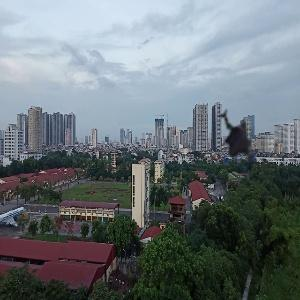drone: (195, 79, 299, 183)
